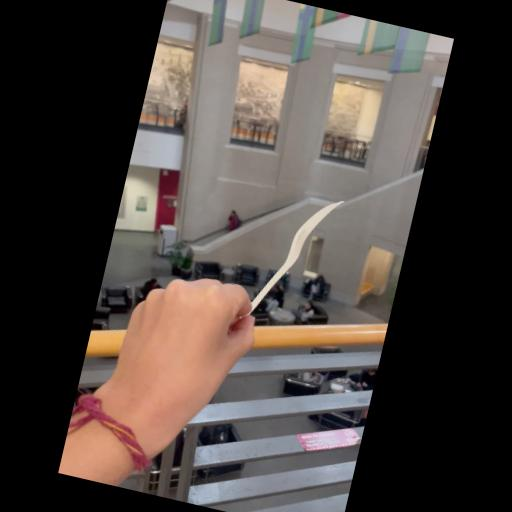utensil: (232, 179, 348, 347)
